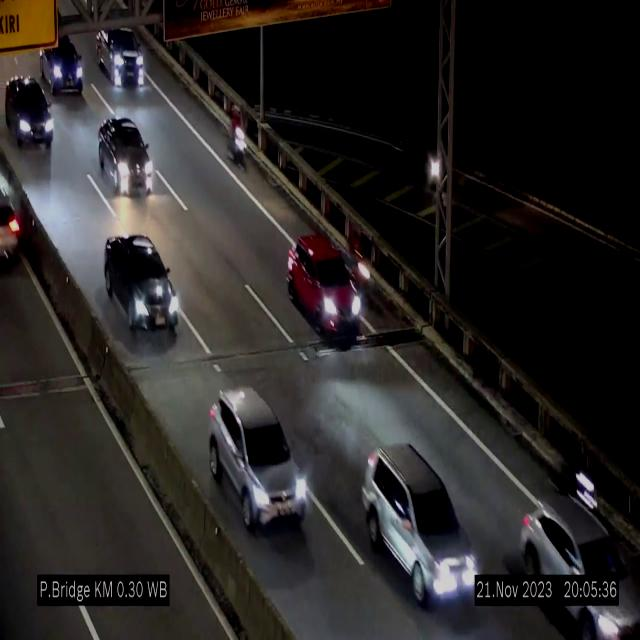Car: (512, 487, 640, 640), (362, 447, 478, 608), (208, 388, 312, 530), (104, 234, 180, 340), (286, 232, 361, 338), (99, 116, 157, 202), (4, 73, 56, 158), (395, 117, 447, 186), (37, 27, 87, 94), (98, 29, 146, 95), (0, 178, 26, 273)
Motorcycle: (552, 454, 599, 511), (228, 101, 246, 178), (350, 224, 371, 290)
